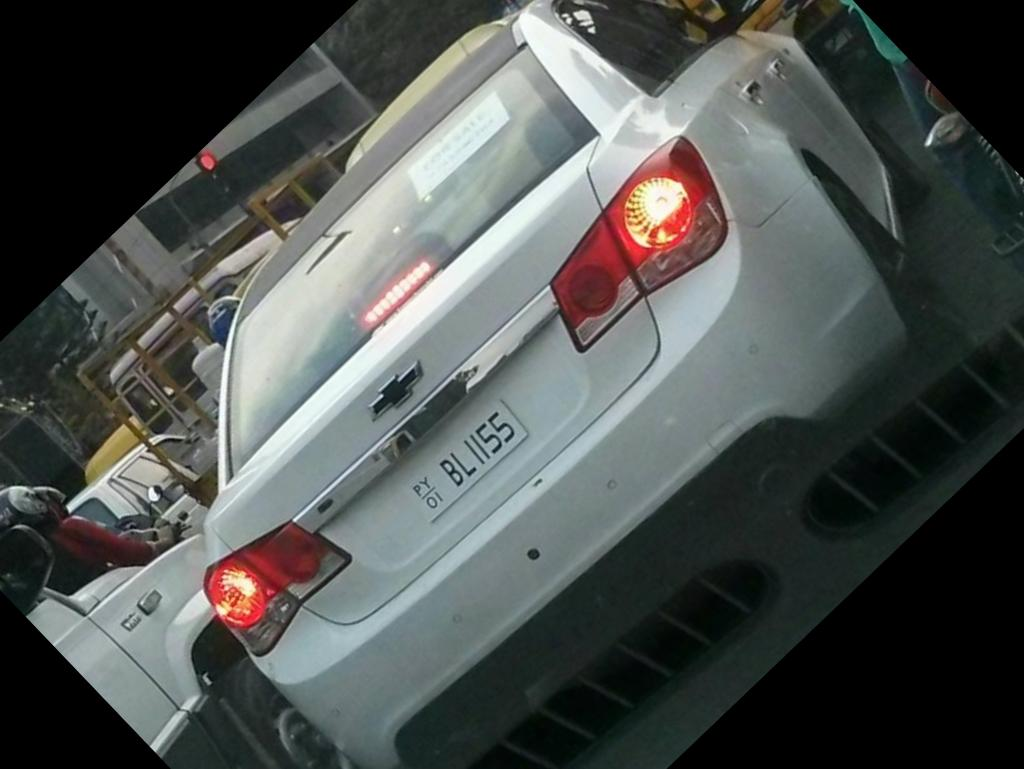plate: (389, 388, 539, 535)
